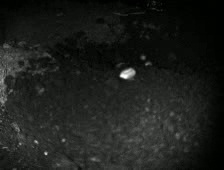corn: (118, 65, 140, 80), (115, 59, 130, 68), (143, 59, 155, 68), (138, 52, 148, 61)
